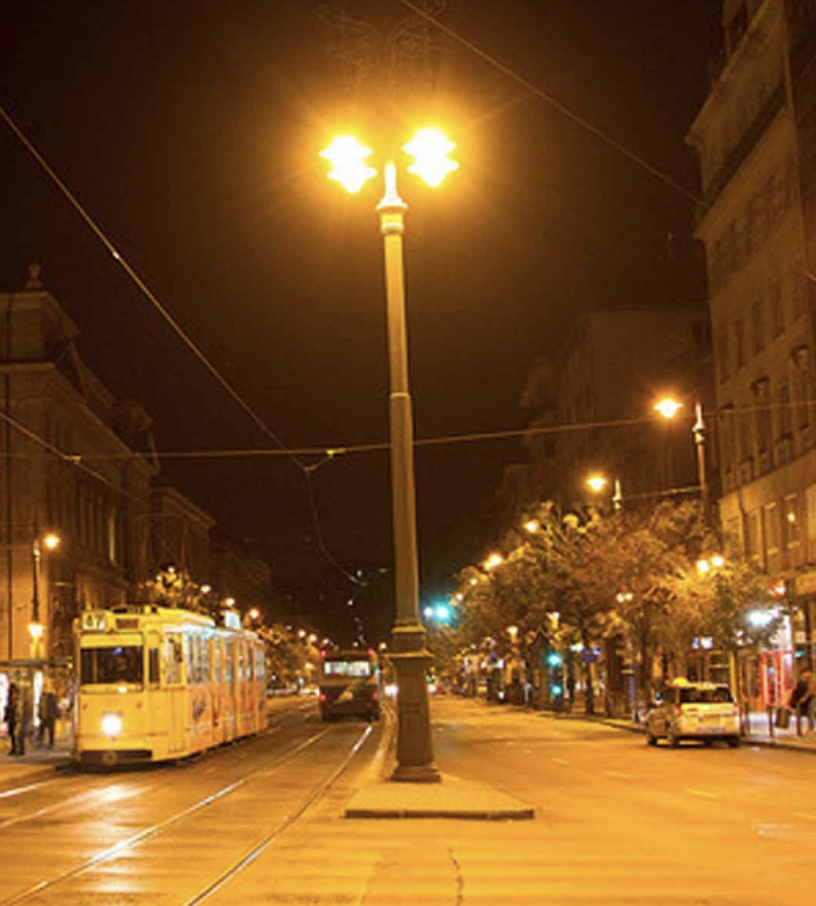HPS: (301, 117, 386, 203), (390, 119, 478, 194), (649, 395, 699, 429), (684, 553, 735, 582), (578, 466, 620, 501), (37, 529, 70, 556), (519, 519, 551, 537)
